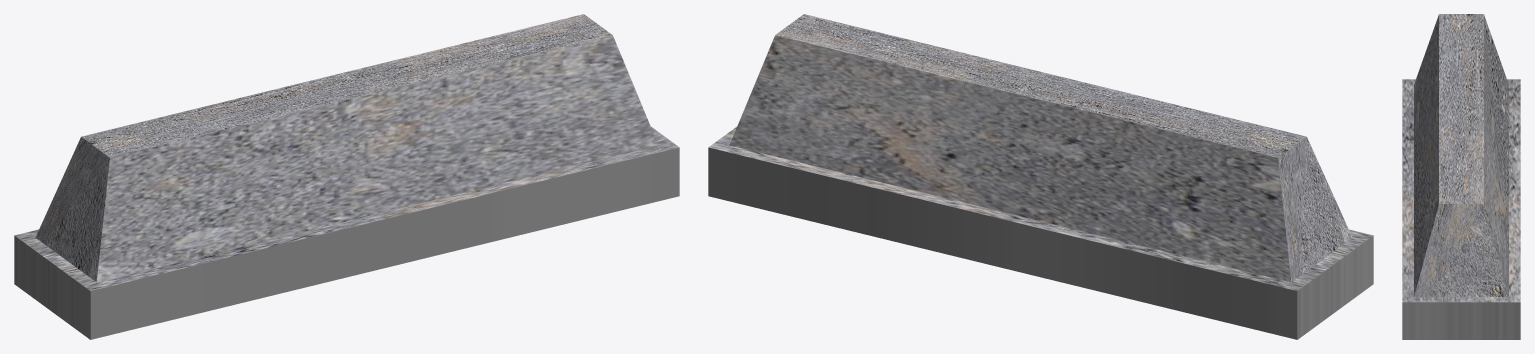
File: muur.fbx
The picture shows the model from 3 angles, left to right: view 1: azimuth 30°, elevation 25°; view 2: azimuth 150°, elevation 25°; view 3: azimuth 270°, elevation 25°; orthographic projection. The views are drawn at different scales.
Parts seen in each view (by area): view 1: pCube1; view 2: pCube1; view 3: pCube1.
Part boxes in pixels (x1,y1,x2,y2): pCube1: (14,14,679,339); pCube1: (708,14,1373,339); pCube1: (1402,14,1520,339).
Bounding box in the file's own units: 8.81 × 2.2 × 1.97.
2 materials, 2 textured.
